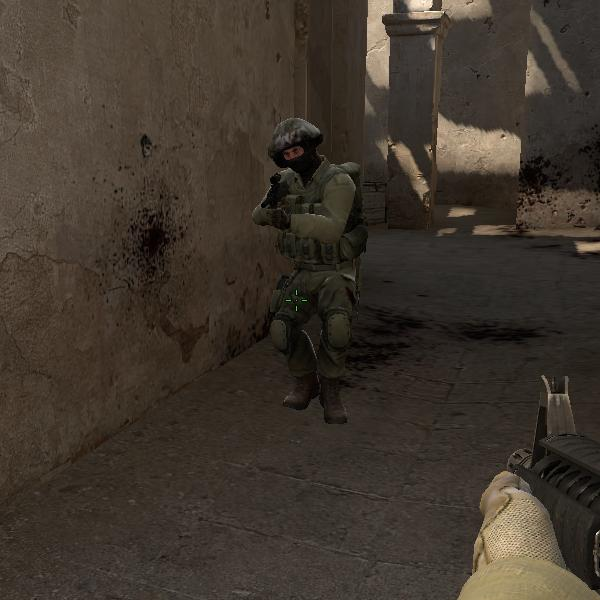ct_body: (249, 116, 367, 430)
ct_head: (266, 118, 324, 178)
